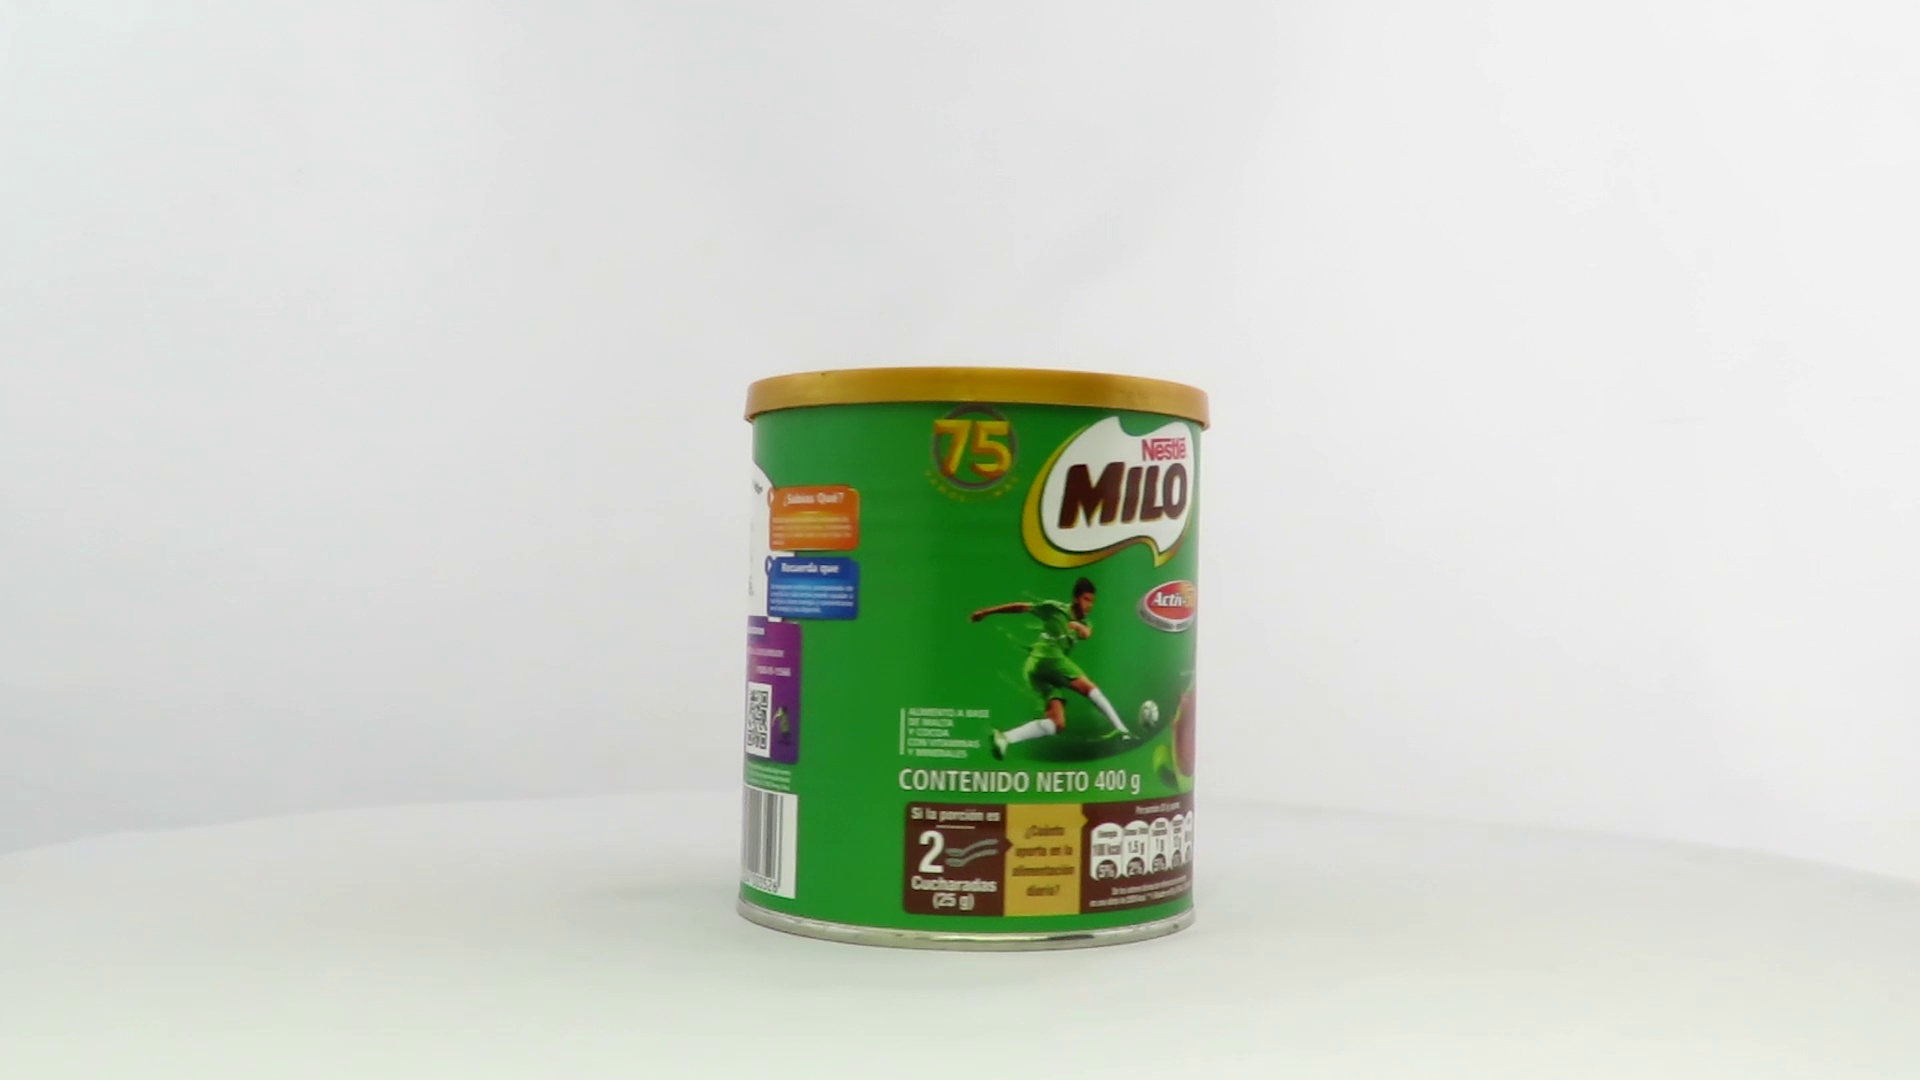COL0170203LAT40000: (731, 361, 1217, 959)
